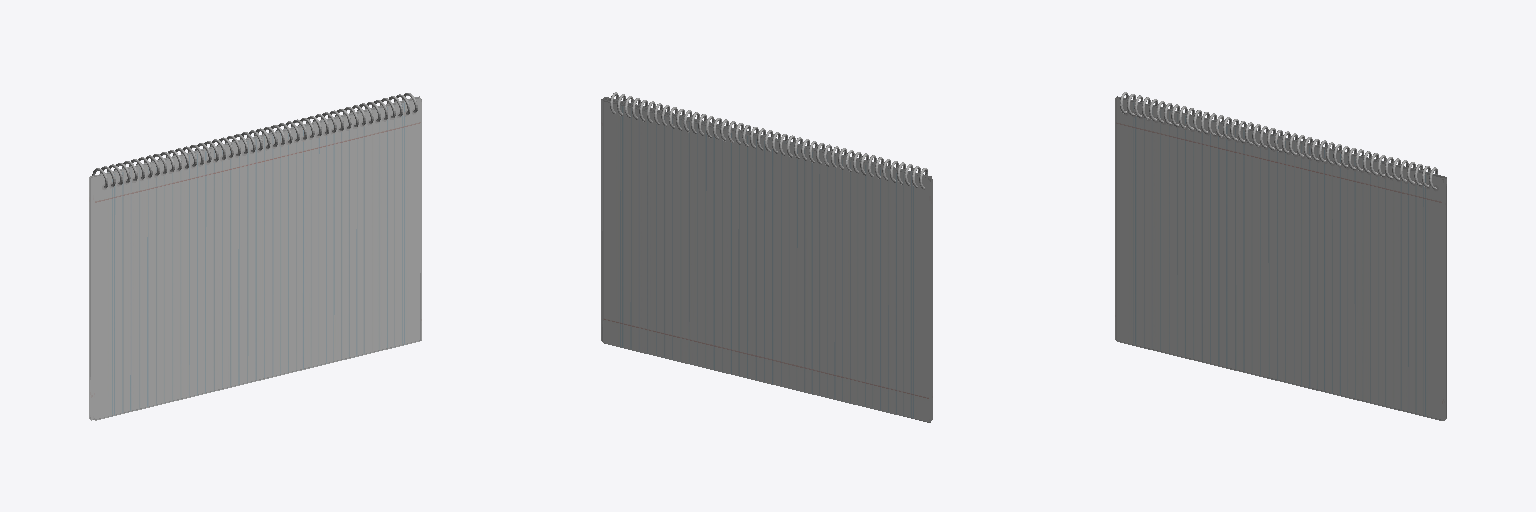
The picture shows the model from 3 angles: view 1: azimuth 30°, elevation 25°; view 2: azimuth 150°, elevation 25°; view 3: azimuth 330°, elevation 25°; orthographic projection.
Visible parts, largest first — view 1: obj6, obj1; view 2: obj34, obj1, obj2; view 3: obj6, obj1, obj7.
Part boxes in pixels (x1,y1,x2,y2): obj6: (95,99,420,419); obj1: (92,93,417,188); obj34: (603,101,928,421); obj1: (610,92,927,189); obj2: (604,181,930,422); obj6: (1116,99,1441,419); obj1: (1120,92,1437,189); obj7: (1117,180,1442,420).
Bounding box in the file's own units: 0.3008 × 0.218 × 0.0172.
Materials: 1 (1 with a texture image).